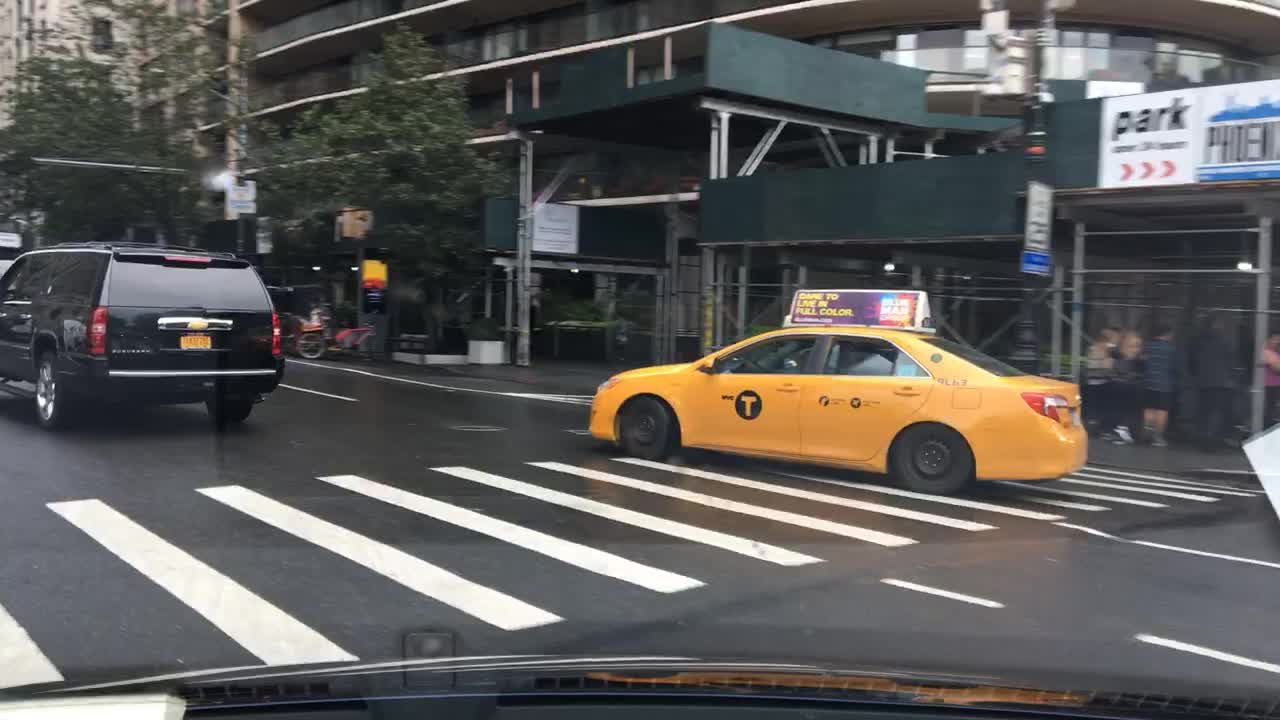car: (586, 288, 1085, 492), (0, 241, 284, 429)
motor: (296, 303, 375, 358)
person: (1146, 322, 1177, 448), (1111, 332, 1143, 446), (1085, 332, 1118, 442), (1255, 331, 1278, 428)
traffic light: (339, 209, 373, 239)
traffic sign: (534, 202, 578, 253), (1028, 179, 1050, 248), (226, 178, 254, 215), (1019, 250, 1052, 278), (362, 261, 386, 290), (365, 291, 387, 313), (0, 232, 20, 246)
